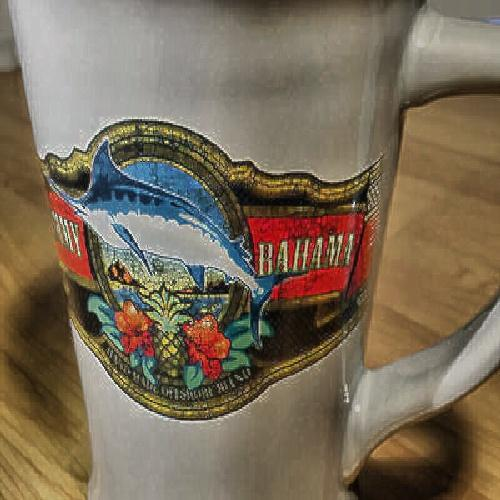mug: (24, 10, 431, 489)
